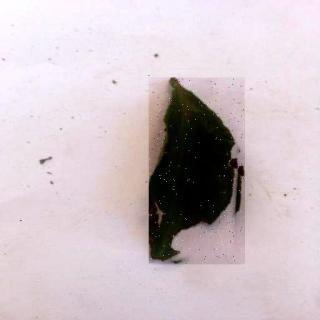Brown Blight: (150, 79, 246, 266)
